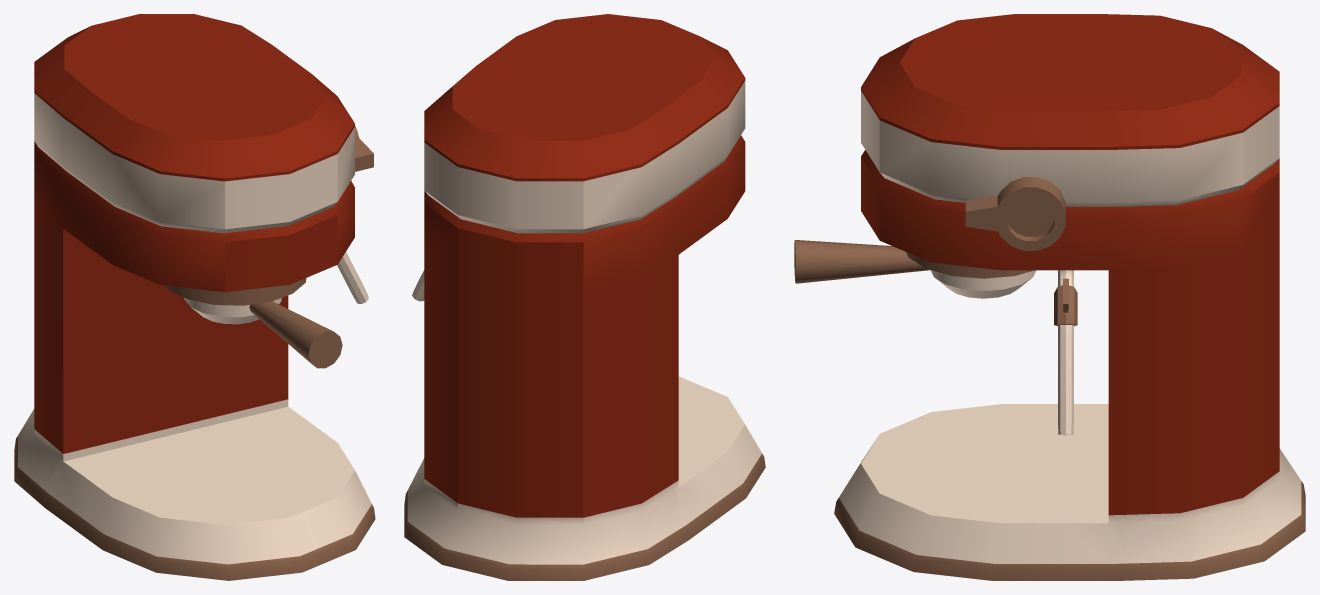
File: CoffeeMachine.fbx
3 views of the same model, side by side, from view 1: azimuth 30°, elevation 25°; view 2: azimuth 150°, elevation 25°; view 3: azimuth 270°, elevation 25° (orthographic). The views are drawn at different scales.
Visible parts, largest first — view 1: Cube, Cylinder, Circle.003, Vert, Circle.006; view 2: Cube; view 3: Cube, Circle.006, Cylinder, Circle.003, Vert, Vert.001.
Boxes of the visible parts, x1,y1,x2,y2 form: Cube: (14, 14, 375, 580); Cylinder: (249, 301, 342, 368); Circle.003: (165, 278, 306, 324); Vert: (337, 252, 368, 303); Circle.006: (355, 125, 373, 171); Cube: (404, 14, 765, 580); Cube: (834, 14, 1305, 580); Circle.006: (965, 177, 1065, 250); Cylinder: (794, 240, 930, 283); Circle.003: (906, 252, 1036, 298); Vert: (1058, 270, 1073, 435); Vert.001: (1054, 278, 1077, 326).
Size of the model in its own units: 94 by 125 by 128.
